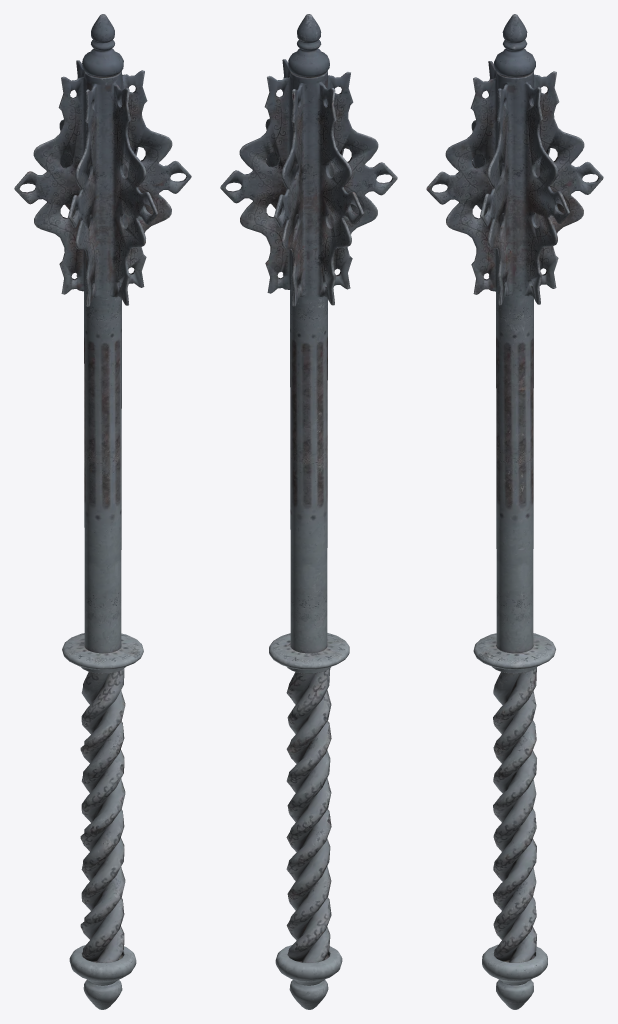
The model's file is w_mace.glb.
3 views of the same model, side by side, from view 1: azimuth 30°, elevation 25°; view 2: azimuth 150°, elevation 25°; view 3: azimuth 270°, elevation 25° (orthographic).
Visible parts, largest first — view 1: ornate_medieval_mace; view 2: ornate_medieval_mace; view 3: ornate_medieval_mace.
Boxes of the visible parts, <box> form: ornate_medieval_mace: <box>14,14,191,1009</box>; ornate_medieval_mace: <box>220,14,397,1009</box>; ornate_medieval_mace: <box>426,14,603,1009</box>.
Size of the model in its own units: 0.0949 by 0.63 by 0.1017.
Materials: 1 (1 with a texture image).
